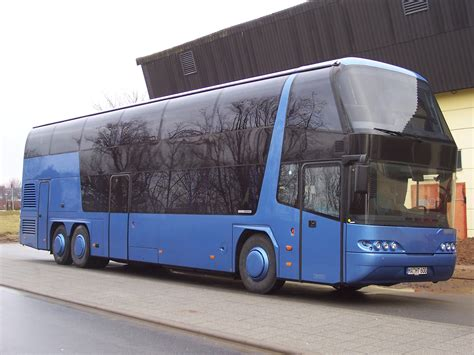bus: (28, 74, 458, 292)
